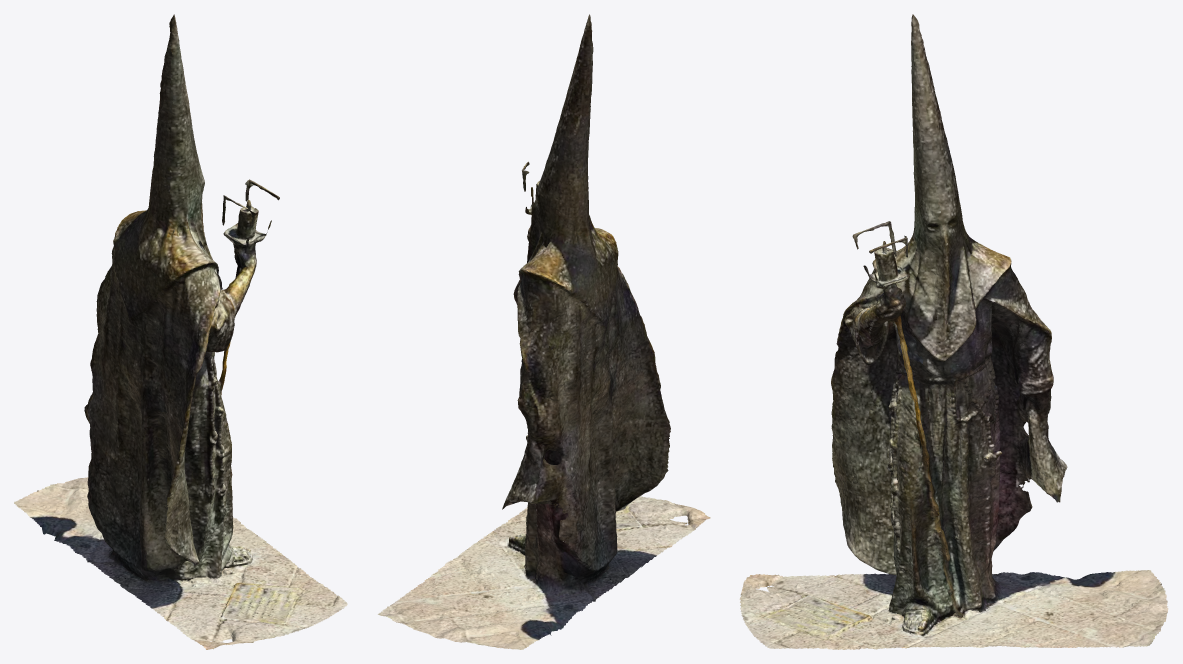
File: cofrade.glb
3 renders of one model, left to right at view 1: azimuth 30°, elevation 25°; view 2: azimuth 150°, elevation 25°; view 3: azimuth 270°, elevation 25°, orthographic. The views are drawn at different scales.
Size of the model in its own units: 0.8685 by 3.11 by 2.05.
1 material, 1 textured.
